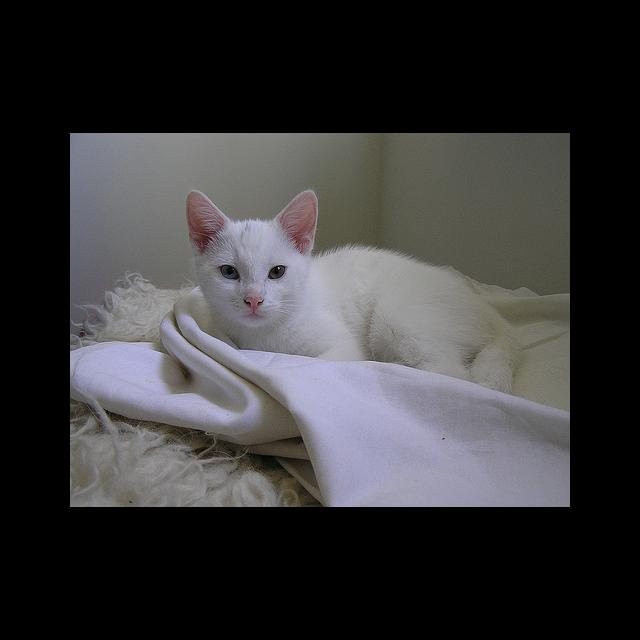animals: (193, 189, 309, 309)
